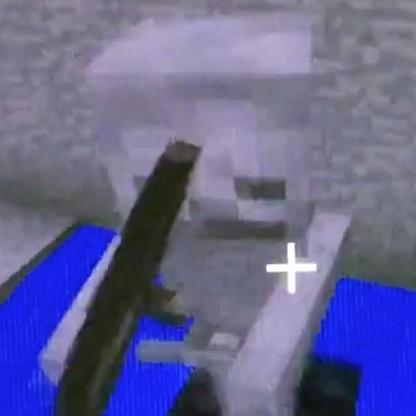skeleton: (82, 11, 335, 308)
